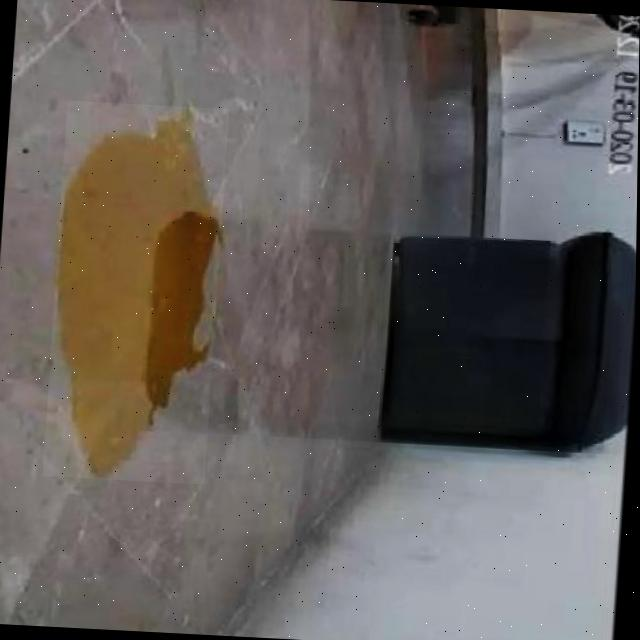spillage: (57, 107, 220, 478)
